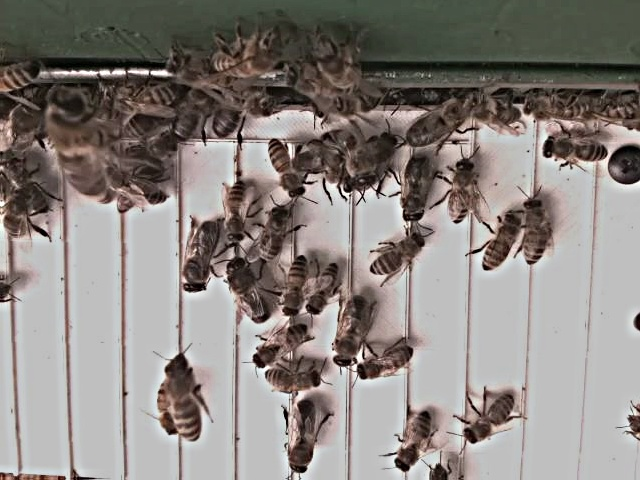Drone: (402, 95, 480, 151), (178, 219, 222, 297), (223, 256, 271, 326), (330, 294, 370, 370), (398, 152, 433, 225), (285, 400, 317, 477)
Worker: (166, 362, 201, 445), (462, 394, 516, 446), (251, 324, 311, 370), (366, 233, 422, 279), (351, 344, 415, 384), (391, 410, 429, 474), (480, 213, 518, 275), (264, 137, 302, 197), (518, 199, 548, 269), (445, 160, 475, 228), (220, 180, 250, 247), (107, 85, 178, 113), (305, 262, 341, 317), (258, 204, 290, 263), (280, 256, 309, 320), (540, 137, 607, 164), (262, 366, 320, 396)
